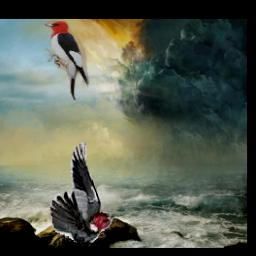Woodpecker: (49, 142, 114, 243), (45, 20, 89, 100)
